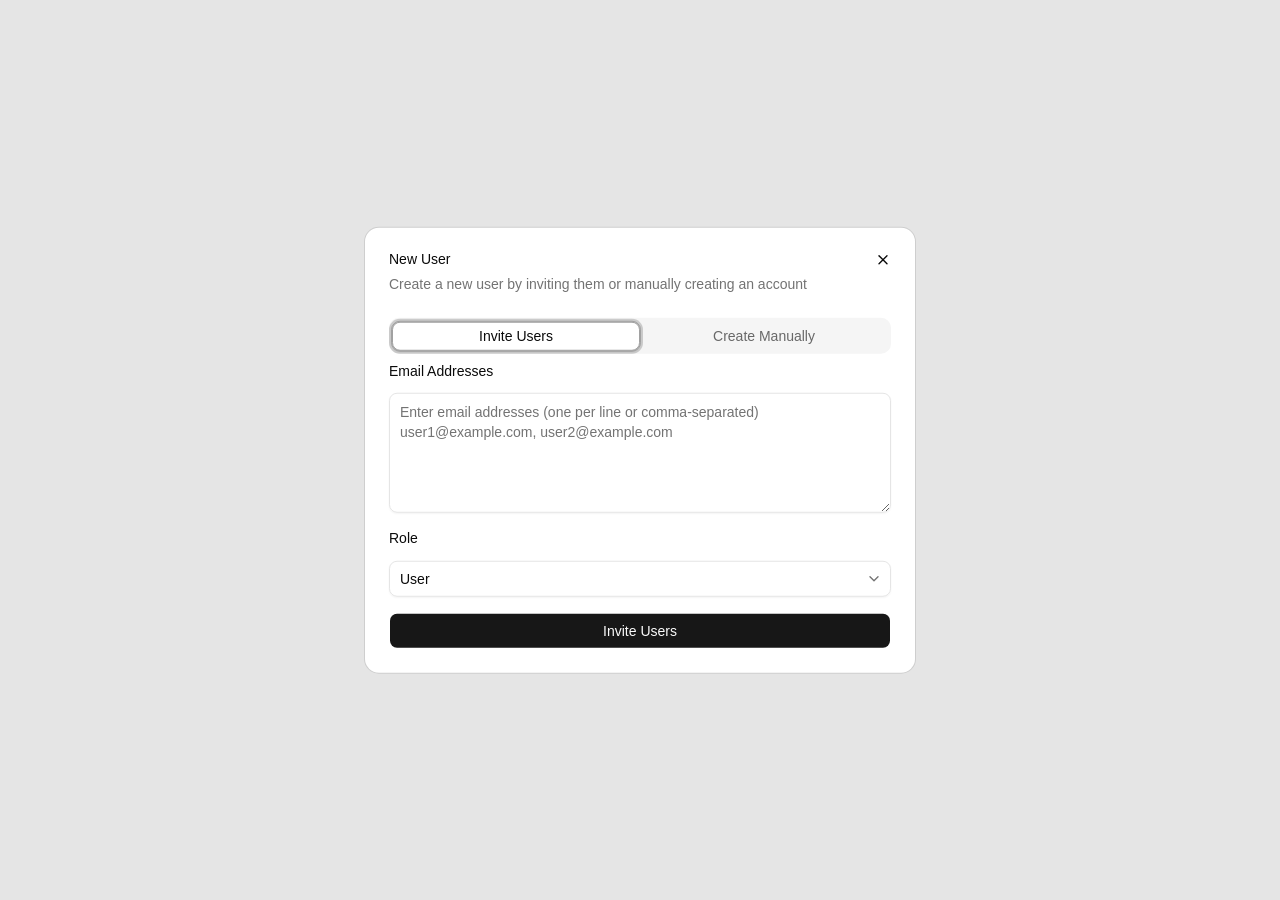
Test case: CreateUserDialog › Invite tab › should show validation error for empty emails
Click the button "Invite Users": (640, 630) left=389, top=612, right=891, bottom=648
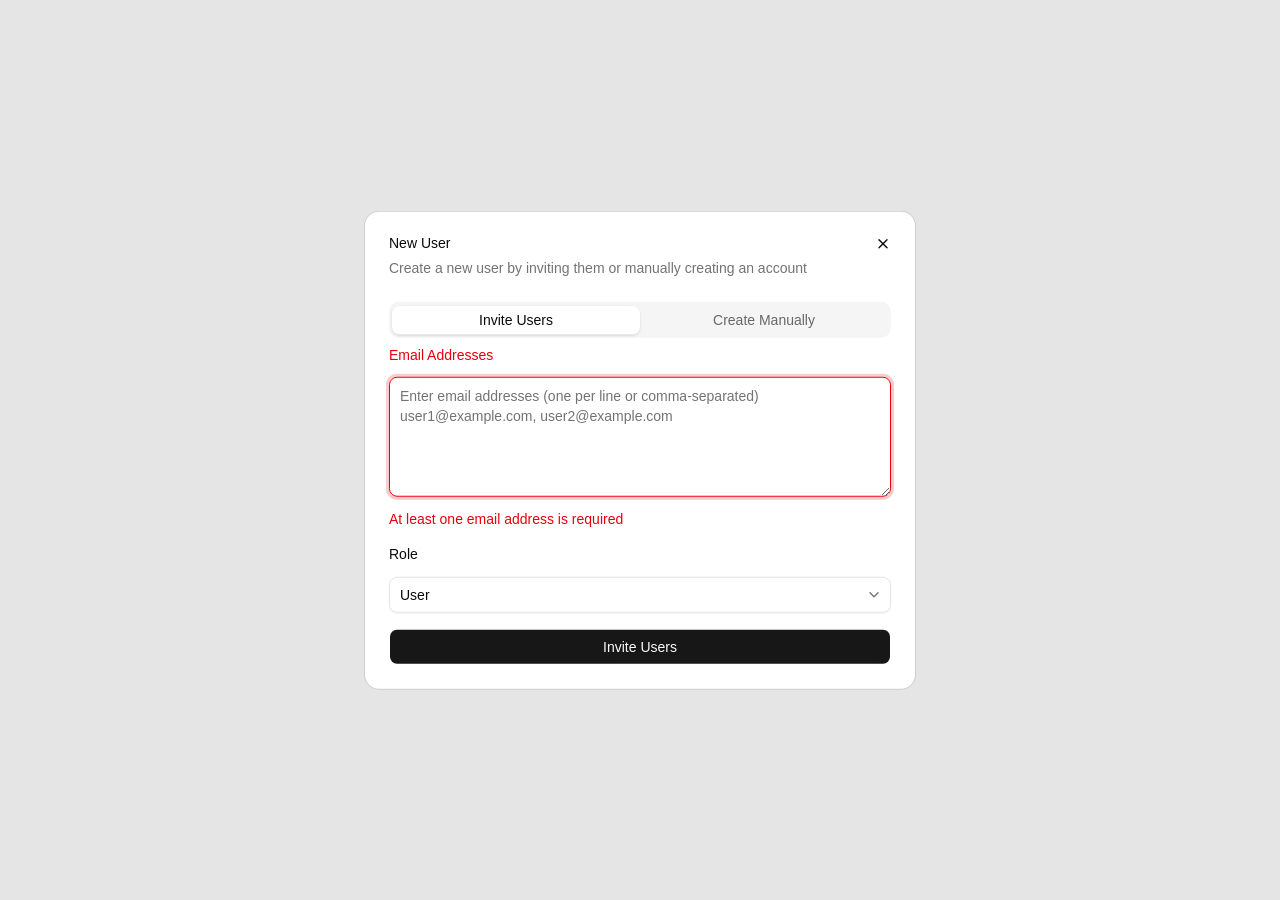
Expected: the text "At least one email address is required" is shown, left=389, top=511, right=623, bottom=527
